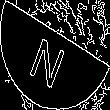N_NE: (33, 23, 77, 87)
